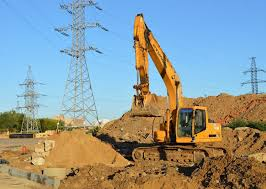excavator: (126, 10, 222, 173)
